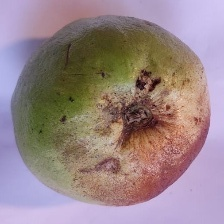guava: (2, 31, 178, 192)
